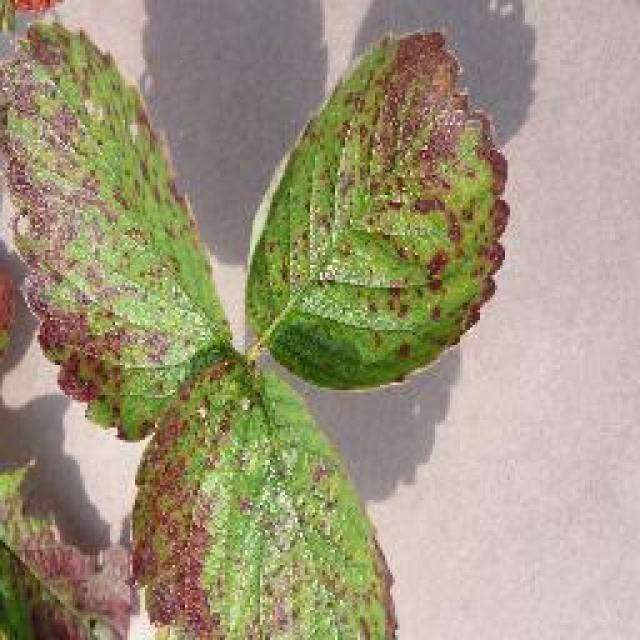Strawberry leaf scorch: (17, 107, 320, 620)
